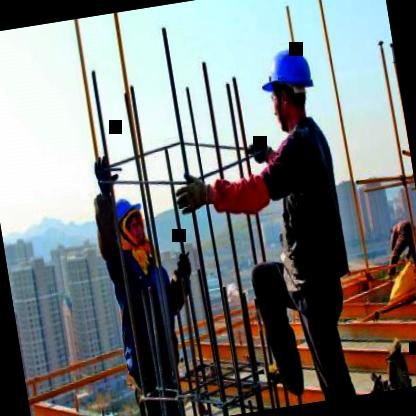helmet: (257, 37, 323, 134), (112, 190, 150, 255)
